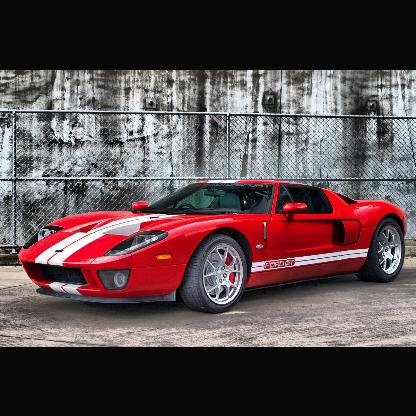Ford GT Coupe 2006: (14, 179, 410, 321)
